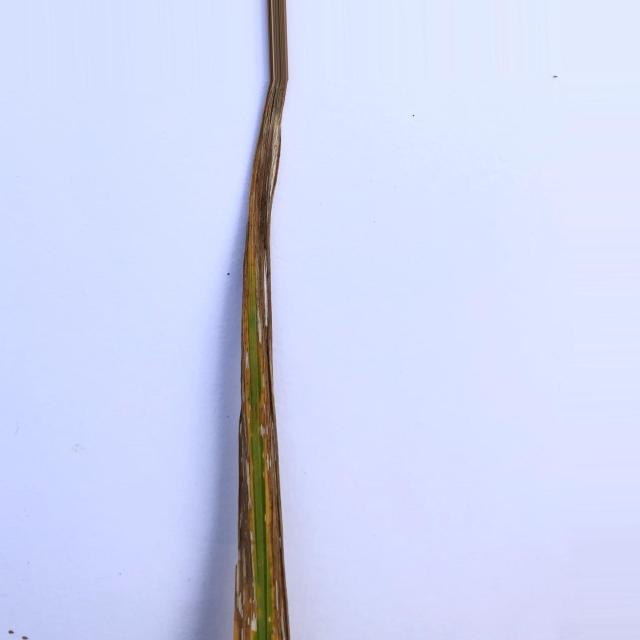Rice Tungro: (234, 0, 290, 639)
